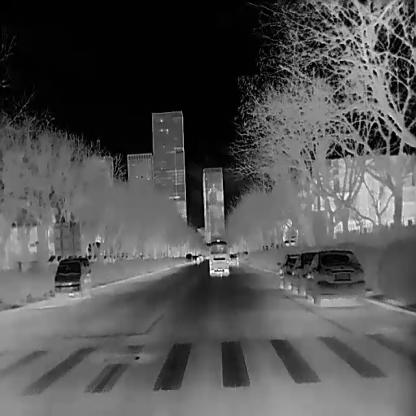bus: (208, 238, 228, 274)
car: (303, 250, 365, 306), (51, 255, 90, 298), (287, 252, 314, 296), (275, 254, 297, 290), (228, 253, 238, 265), (184, 252, 192, 263)
